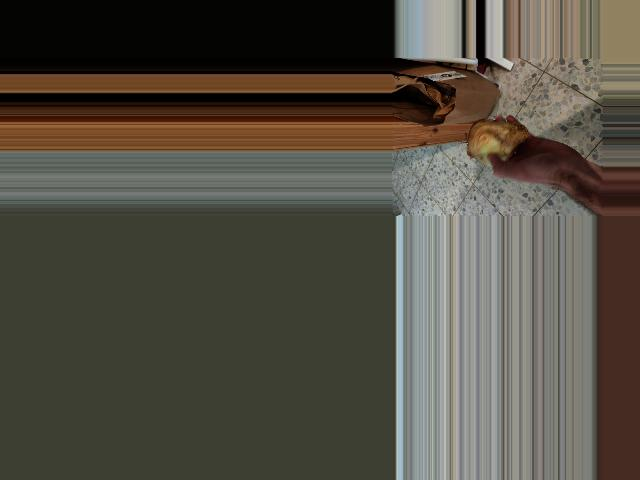onion: (463, 118, 532, 168)
